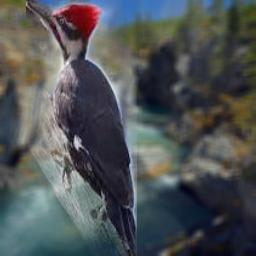Woodpecker: (26, 0, 137, 256)
